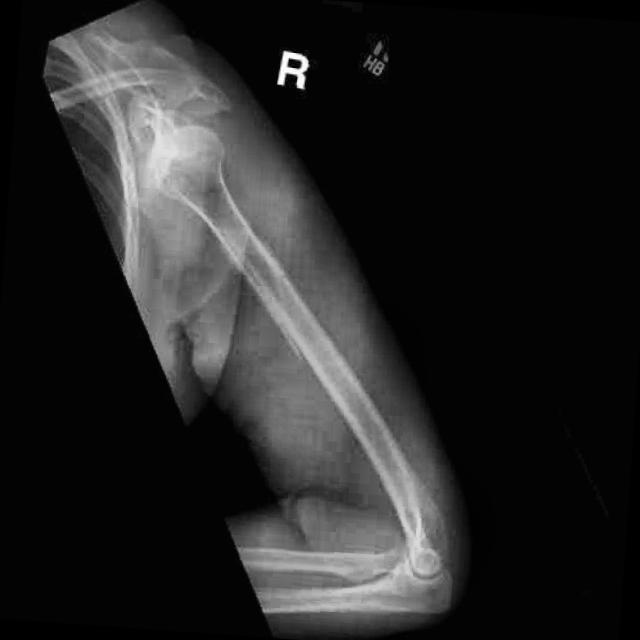humerus: (247, 236, 361, 400)
